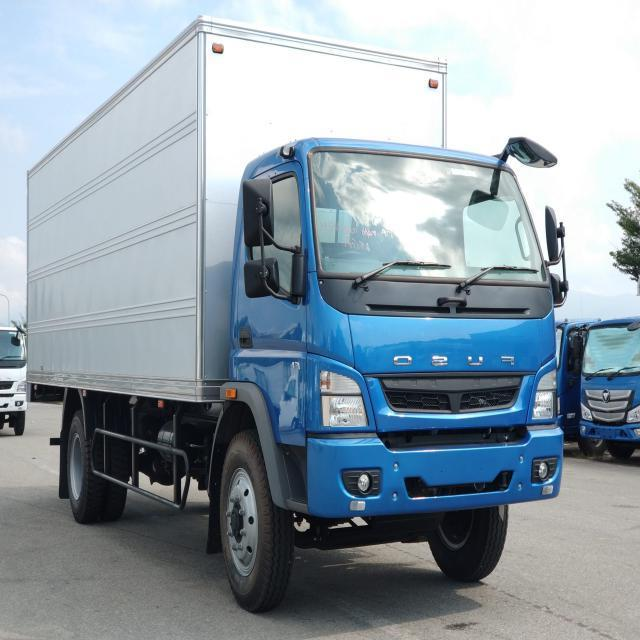truck: (24, 15, 558, 615)
